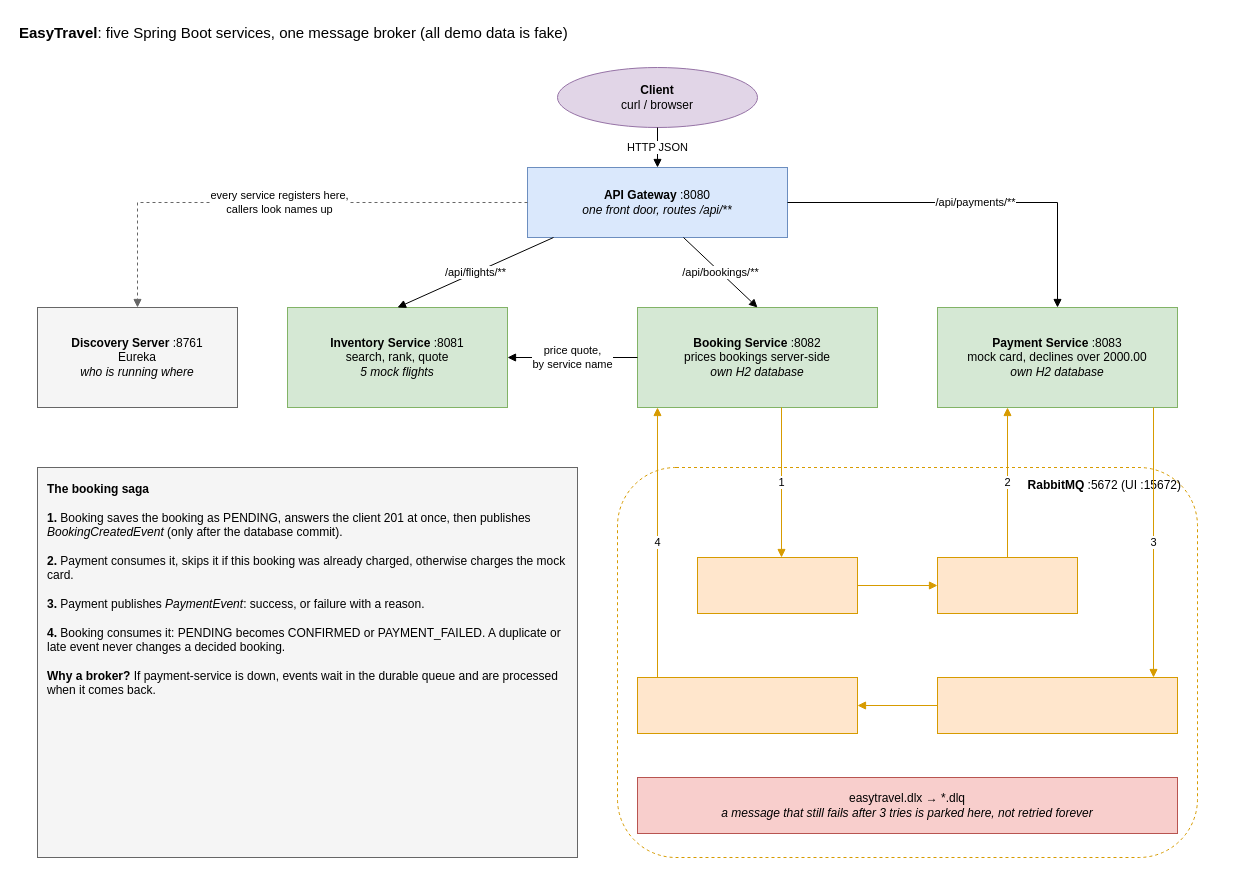
The diagram is 1234 pixels wide and 875 high, and some of its shapes have lost their labels. Each missing label, with the centre of its shape:
"booking.exchange booking.created" belongs at point (777, 585).
"booking.payment- completed.queue" belongs at point (747, 705).
"payment.booking- created.queue" belongs at point (1007, 585).
"payment.exchange payment.completed" belongs at point (1057, 705).
